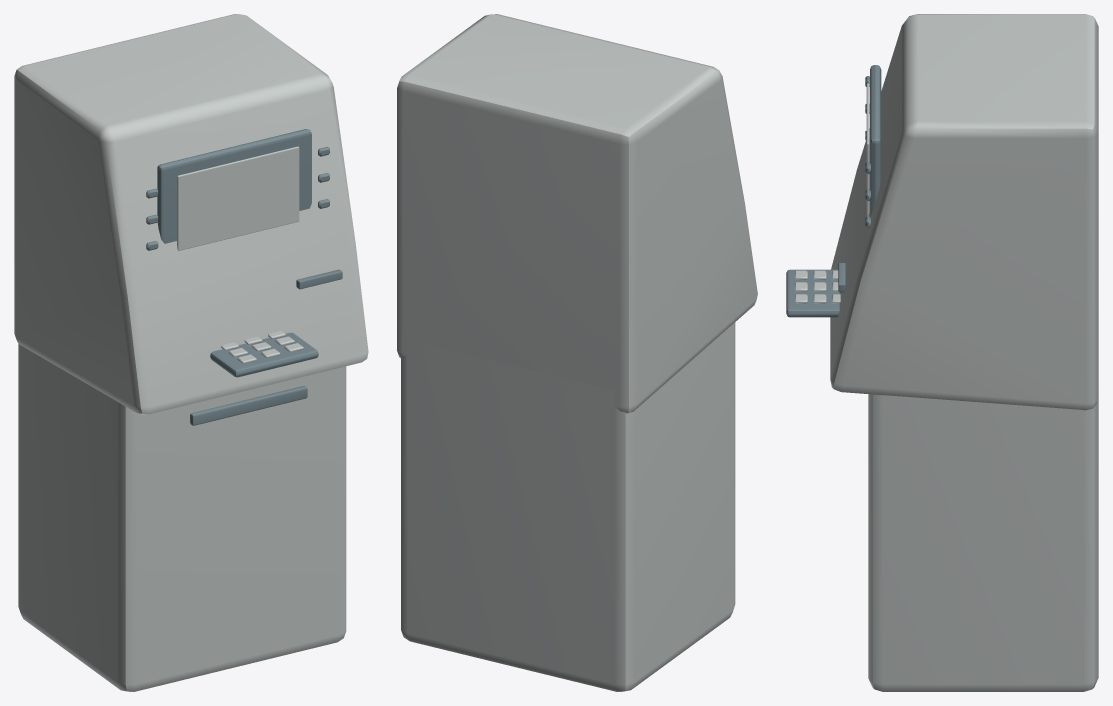
Rendered from atm.glb.
The picture shows the model from 3 angles, left to right: view 1: azimuth 30°, elevation 25°; view 2: azimuth 150°, elevation 25°; view 3: azimuth 270°, elevation 25°; orthographic projection. The views are drawn at different scales.
Parts seen in each view (by area): view 1: sloped_console, lower_cabinet, screen_inner, screen_recess, keypad, cash_slot; view 2: sloped_console, lower_cabinet; view 3: sloped_console, lower_cabinet, keypad, screen_recess.
Boxes of the visible parts, bbox=[...] form: sloped_console: bbox=[14, 14, 368, 414]; lower_cabinet: bbox=[18, 344, 346, 691]; screen_inner: bbox=[177, 146, 299, 250]; screen_recess: bbox=[157, 129, 311, 243]; keypad: bbox=[210, 332, 318, 377]; cash_slot: bbox=[190, 386, 307, 425]; sloped_console: bbox=[397, 14, 757, 413]; lower_cabinet: bbox=[401, 322, 735, 691]; sloped_console: bbox=[830, 14, 1098, 410]; lower_cabinet: bbox=[868, 394, 1098, 691]; keypad: bbox=[786, 269, 839, 317]; screen_recess: bbox=[870, 65, 881, 216].
Size of the model in its own units: 0.75 by 1.7 by 0.84.
